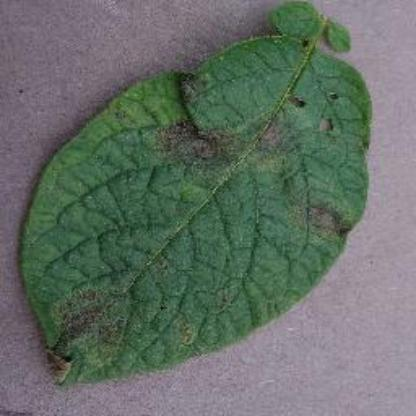Late-Blight: (12, 2, 376, 388)
